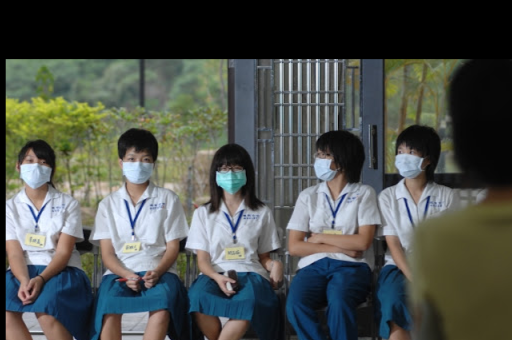with_mask: (19, 154, 50, 190), (121, 152, 152, 185), (393, 146, 423, 180), (215, 164, 246, 196), (312, 151, 337, 182)
